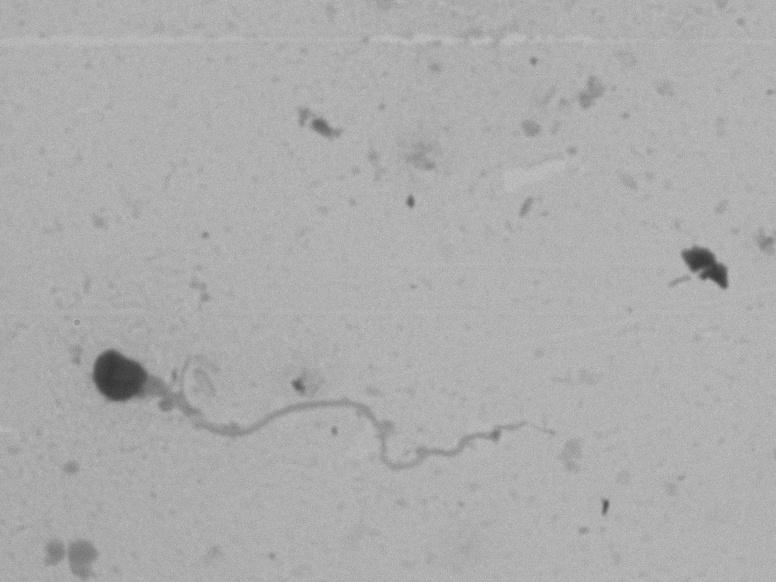Abnormal: (73, 274, 589, 512)
